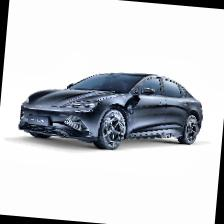EV: (18, 62, 208, 160)
